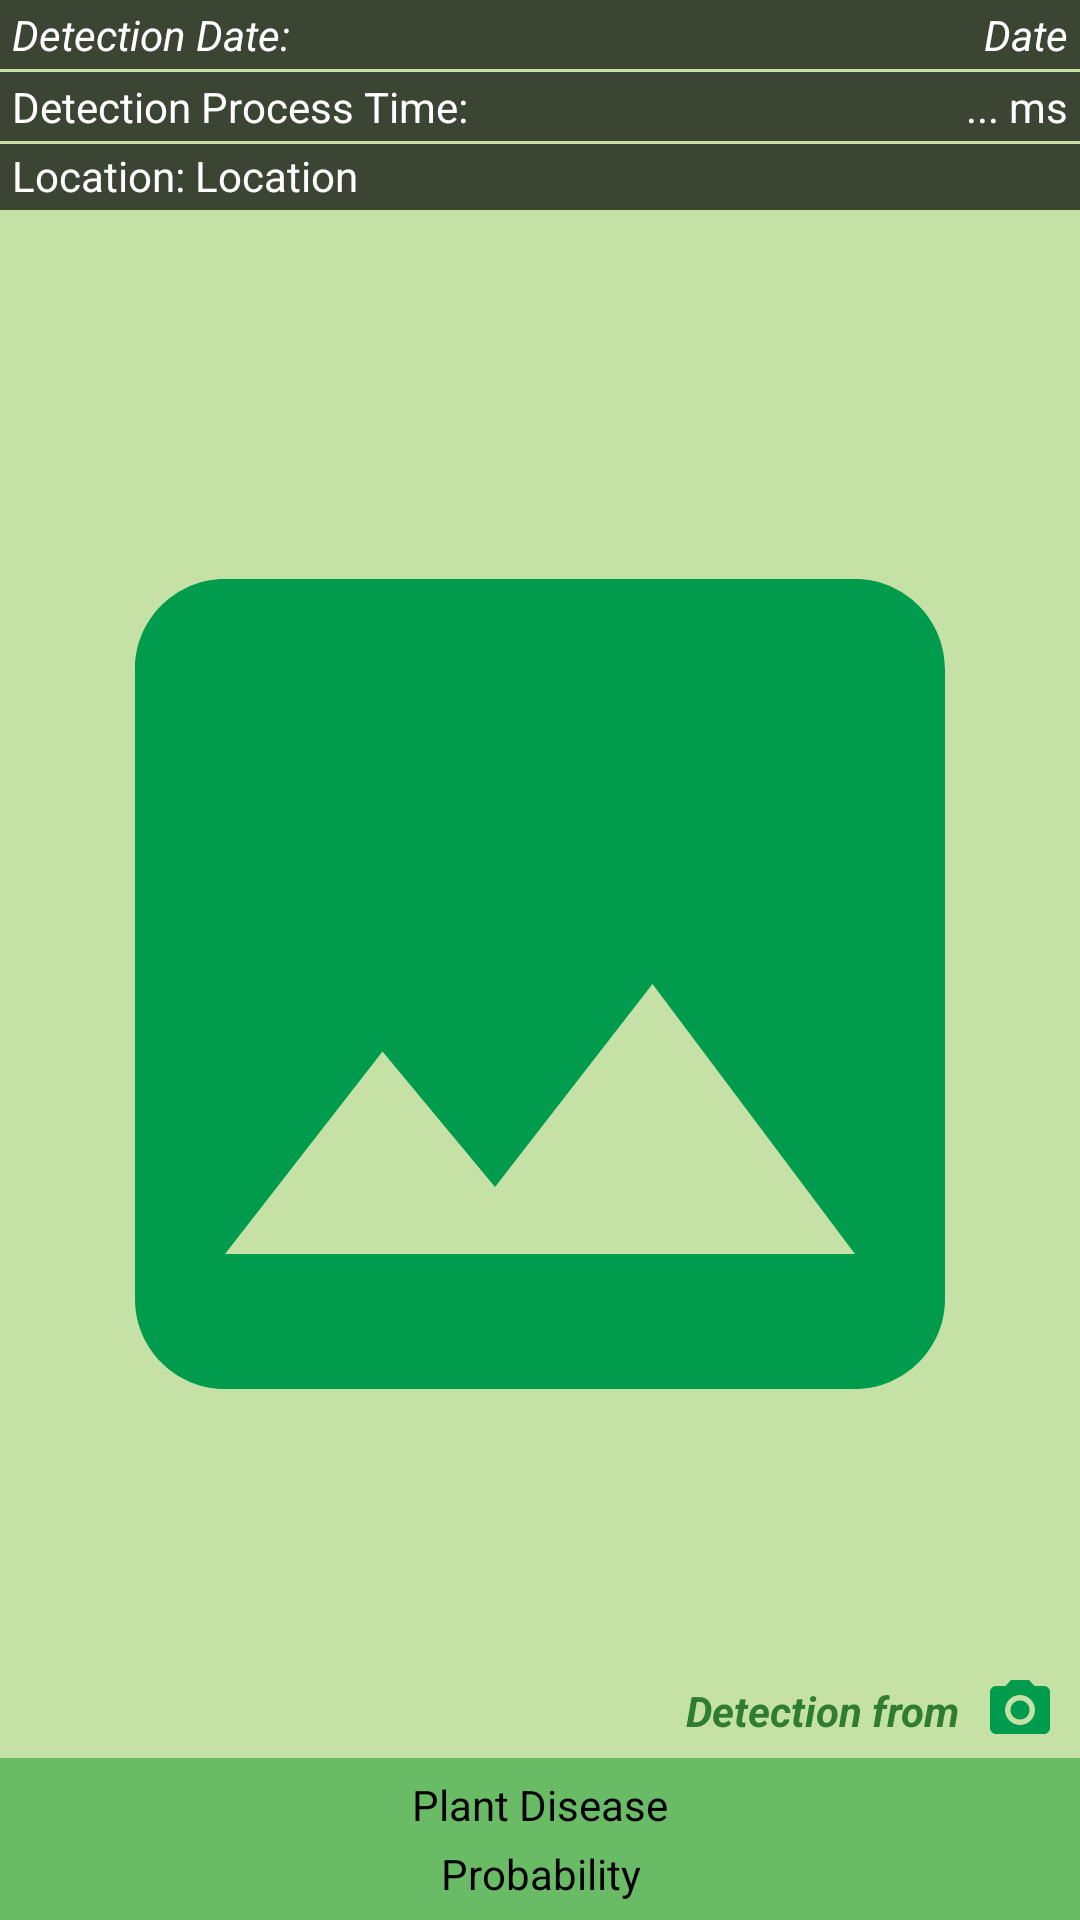

Icon click points for this 1080x1920 phone screenshot, format [x,y]:
camera: [1020,1707]
